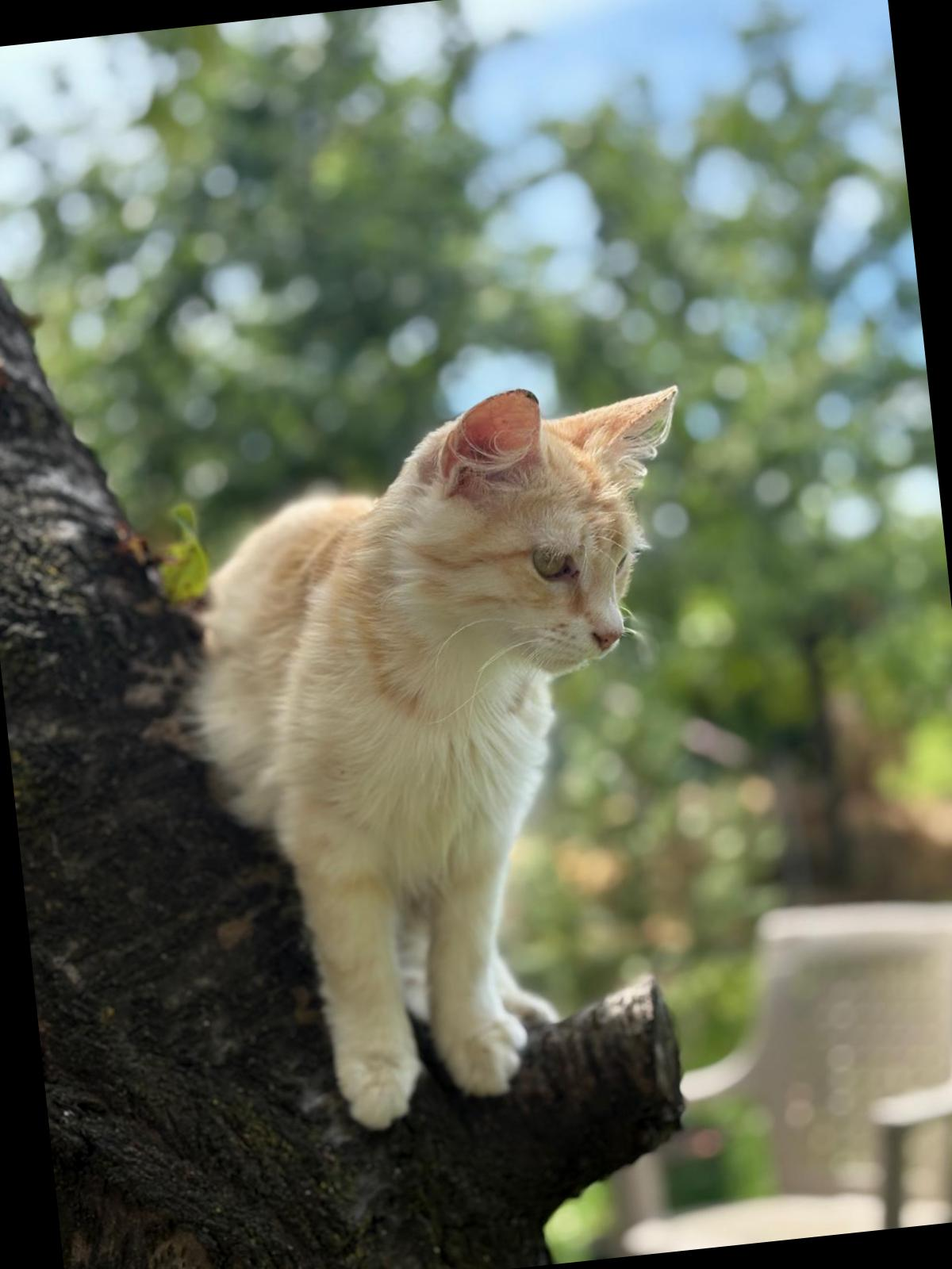macka: (159, 372, 752, 1144)
